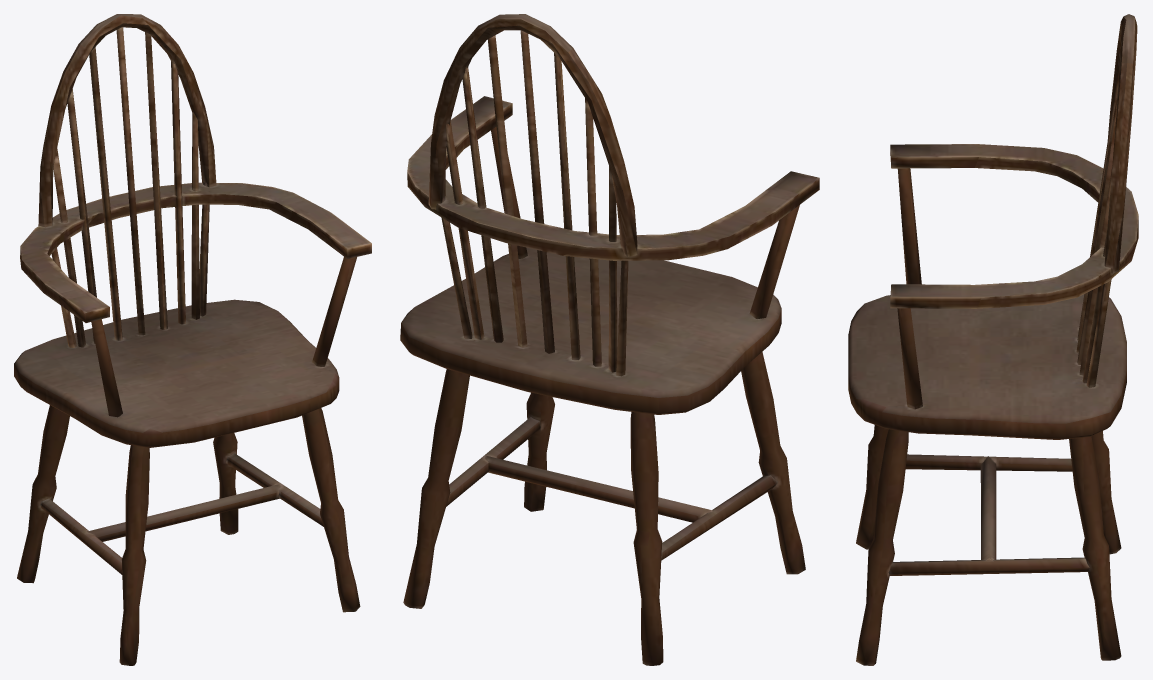
Rendered from windsor_chair-low.glb.
3 renders of one model, left to right at view 1: azimuth 30°, elevation 25°; view 2: azimuth 150°, elevation 25°; view 3: azimuth 270°, elevation 25°, orthographic. The views are drawn at different scales.
Parts seen in each view (by area): view 1: windsor_chair-low; view 2: windsor_chair-low; view 3: windsor_chair-low.
Boxes of the visible parts, x1,y1,x2,y2 form: windsor_chair-low: [14, 14, 371, 665]; windsor_chair-low: [400, 14, 819, 665]; windsor_chair-low: [848, 14, 1138, 665].
Bounding box in the file's own units: 0.5947 × 1.06 × 0.4742.
Materials: 1 (1 with a texture image).
